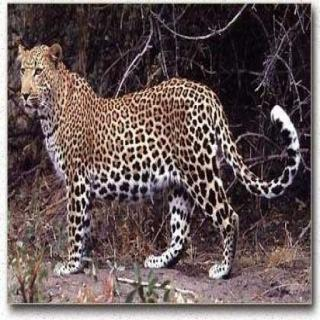Leopard: (14, 25, 318, 275)
